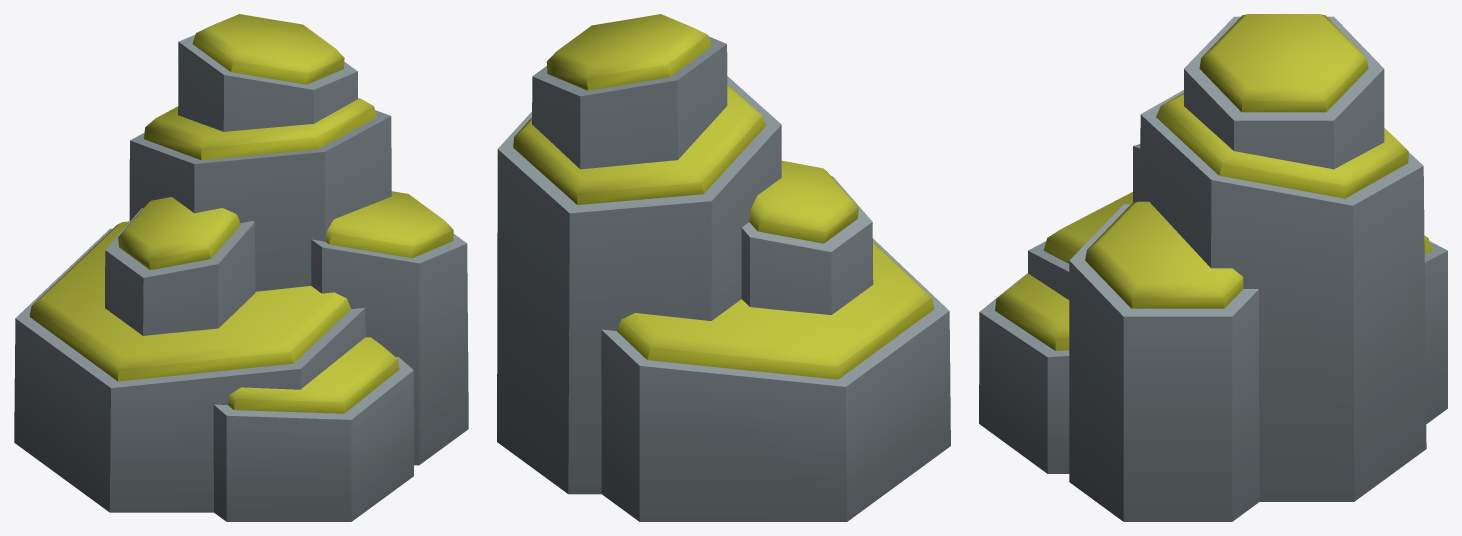
The model's file is kaykit-medieval-hexagon-pack-mountain-b-grass.glb.
3 renders of one model, left to right at view 1: azimuth 30°, elevation 25°; view 2: azimuth 150°, elevation 25°; view 3: azimuth 270°, elevation 25°, orthographic. The views are drawn at different scales.
Parts seen in each view (by area): view 1: mountain_B_grass; view 2: mountain_B_grass; view 3: mountain_B_grass.
Boxes of the visible parts, x1,y1,x2,y2 form: mountain_B_grass: [14, 14, 468, 521]; mountain_B_grass: [497, 14, 950, 521]; mountain_B_grass: [979, 14, 1447, 521].
Bounding box in the file's own units: 1.8 × 1.84 × 1.88.
Materials: 1 (1 with a texture image).
